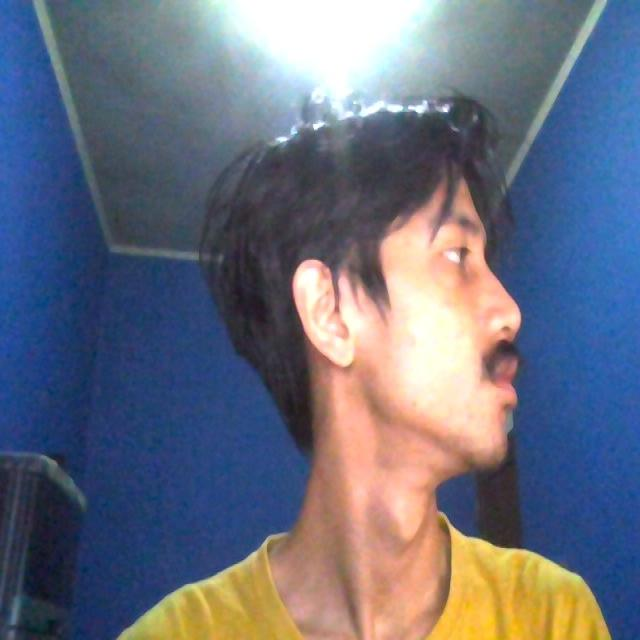melihat kekiri: (180, 55, 589, 537)
